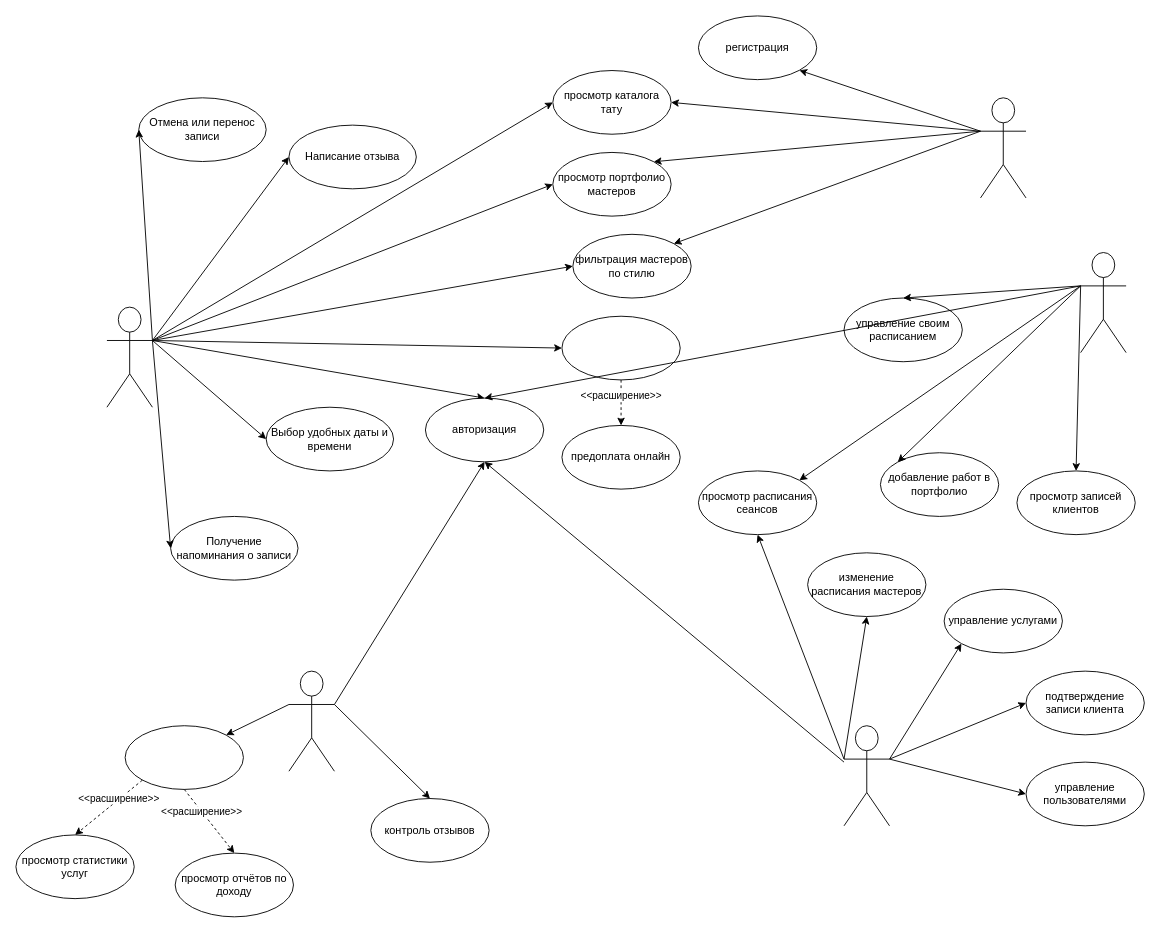
The diagram is 1160 pixels wide and 933 high, and some of its shapes have lost their labels. The box of each missing label's shape, as (x1, y1, x2, y2) in pixels:
Администратор: (843, 725, 890, 826)
Владелец: (288, 670, 334, 771)
Генерация отчётов: (124, 725, 243, 789)
запись на сеанс: (561, 315, 680, 380)
Клиент: (106, 306, 152, 407)
Мастер: (1080, 252, 1126, 353)
Незарег. клиент: (980, 97, 1026, 198)
